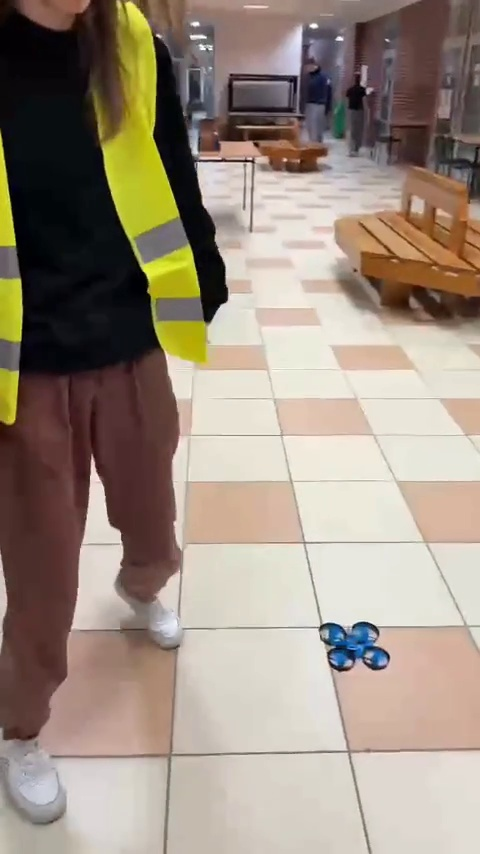drone: (319, 622, 387, 674)
no vest: (294, 55, 337, 153), (340, 65, 374, 150)
vest: (2, 2, 209, 796)
